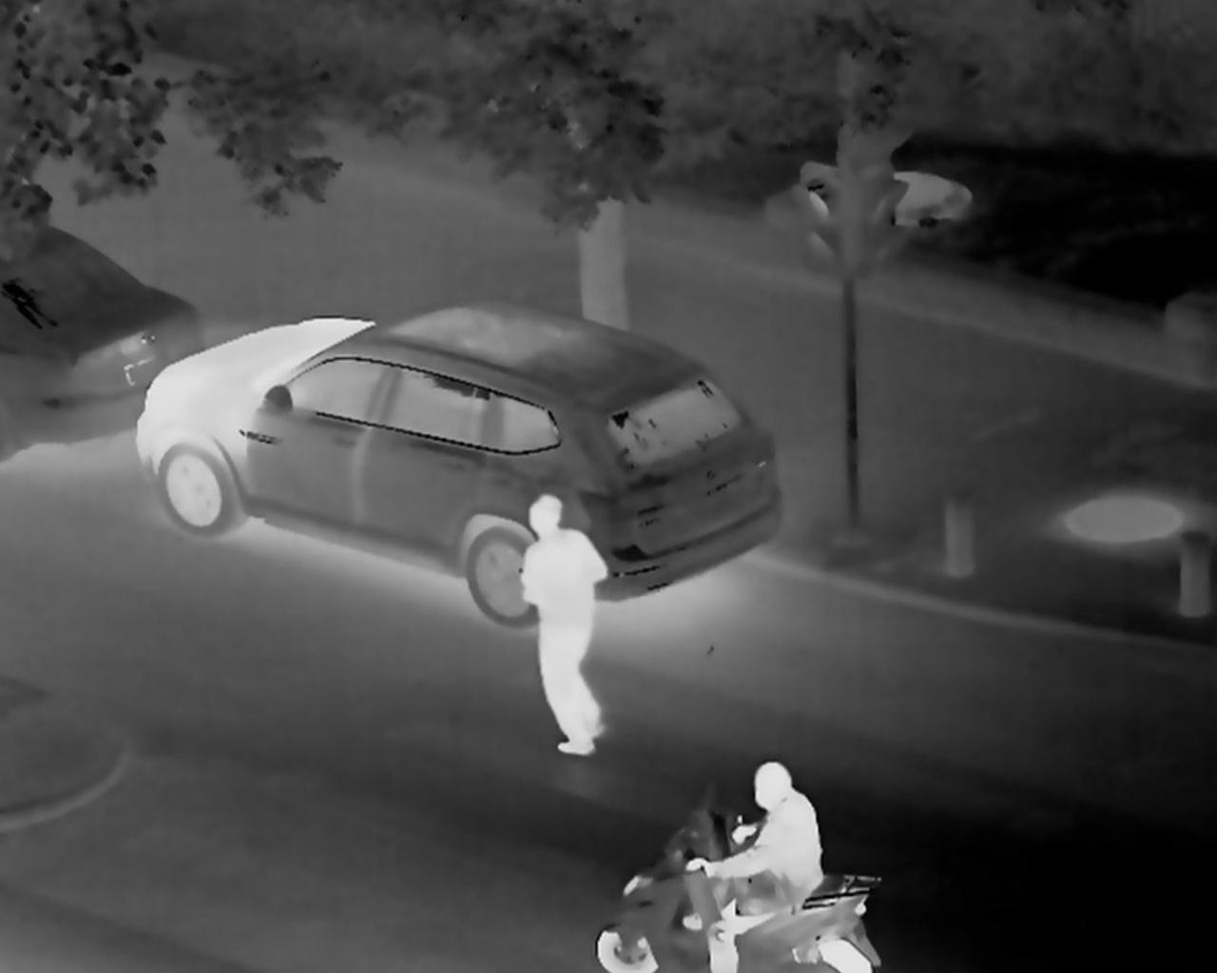person: (522, 491, 654, 759), (696, 757, 827, 973)
